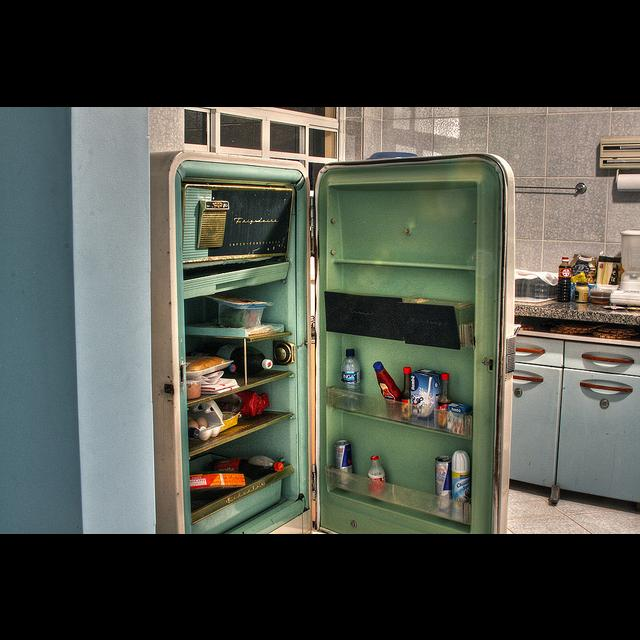Refrigerator: (156, 153, 512, 528)
